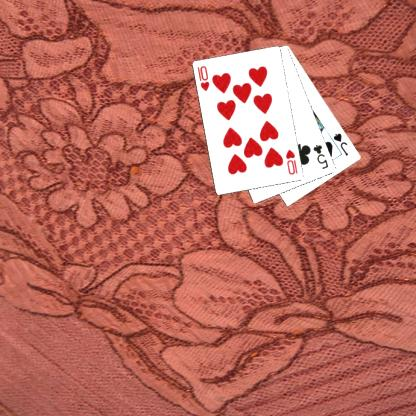10H: (195, 63, 211, 93), (283, 147, 299, 176)
5C: (310, 142, 330, 170)
JS: (330, 130, 350, 158)
